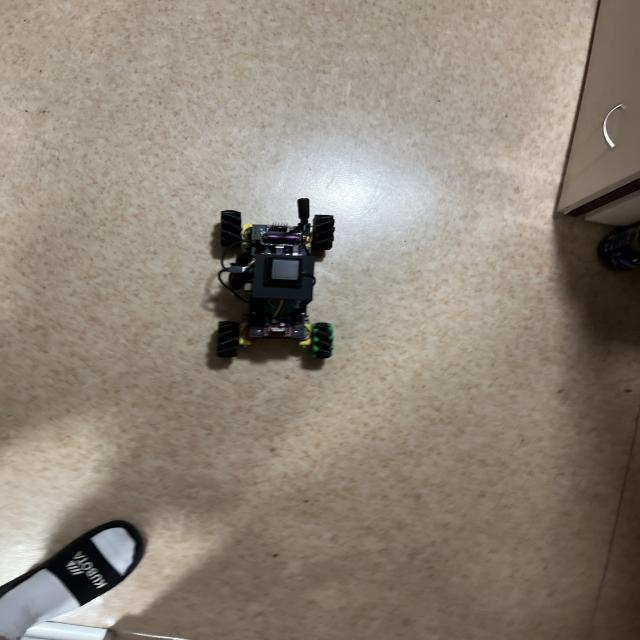robot: (216, 198, 334, 359)
